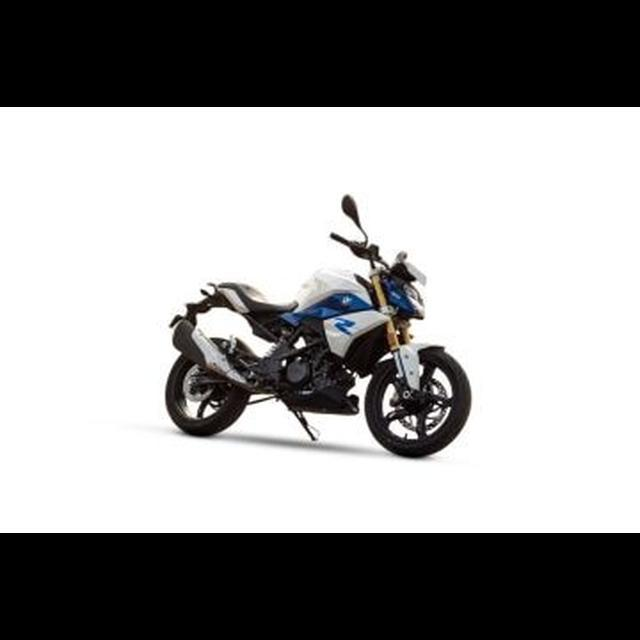motorcycle: (161, 191, 478, 463)
